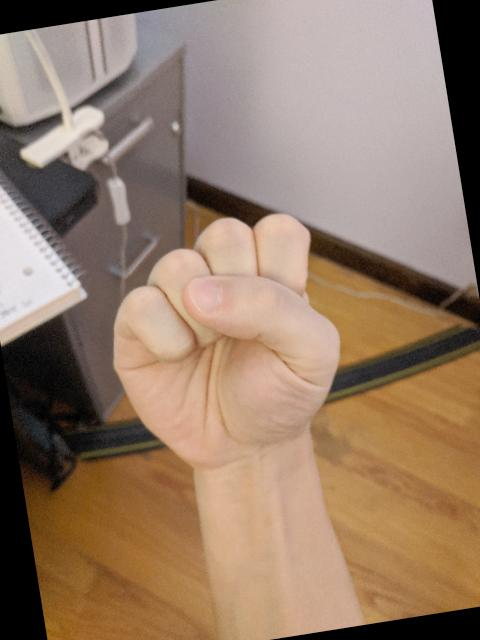S: (86, 194, 366, 486)
